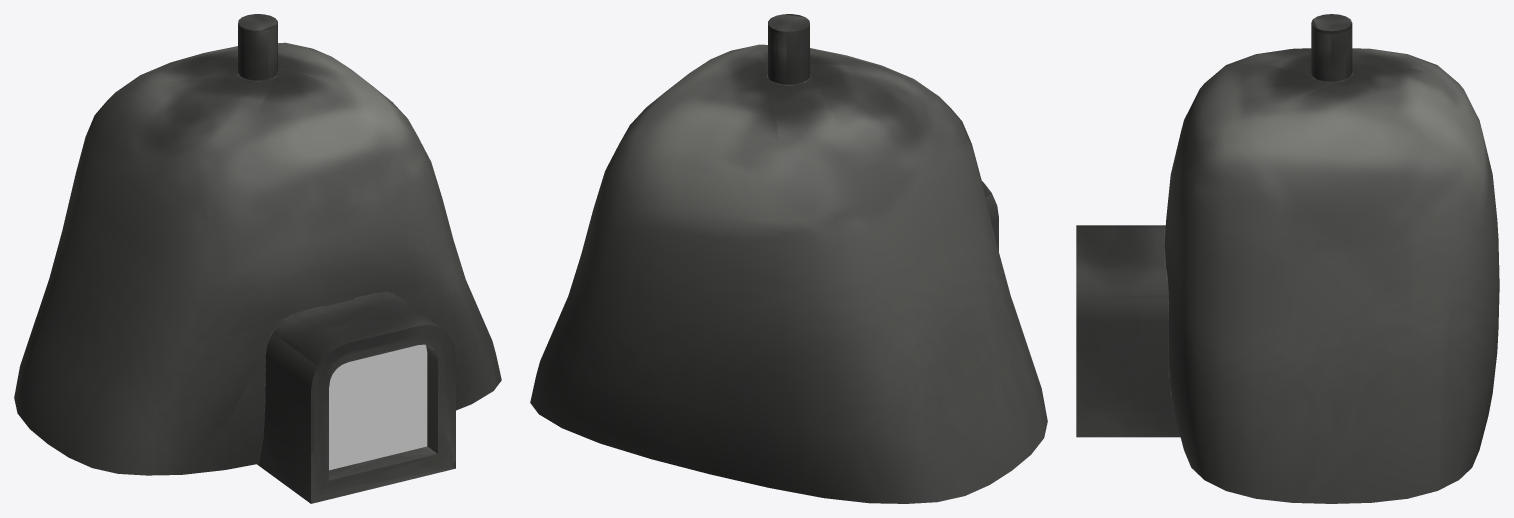
The model's file is furnace.fbx.
3 renders of one model, left to right at view 1: azimuth 30°, elevation 25°; view 2: azimuth 150°, elevation 25°; view 3: azimuth 270°, elevation 25°, orthographic. The views are drawn at different scales.
Parts seen in each view (by area): view 1: Furnace, Fire; view 2: Furnace; view 3: Furnace.
Boxes of the visible parts, left/top/right/bottom form: Furnace: left=14, top=14, right=501, bottom=503; Fire: left=329, top=344, right=427, bottom=470; Furnace: left=530, top=14, right=1047, bottom=503; Furnace: left=1076, top=14, right=1499, bottom=503.
Bounding box in the file's own units: 580 × 491 × 497.
Materials: 2 (1 with a texture image).
